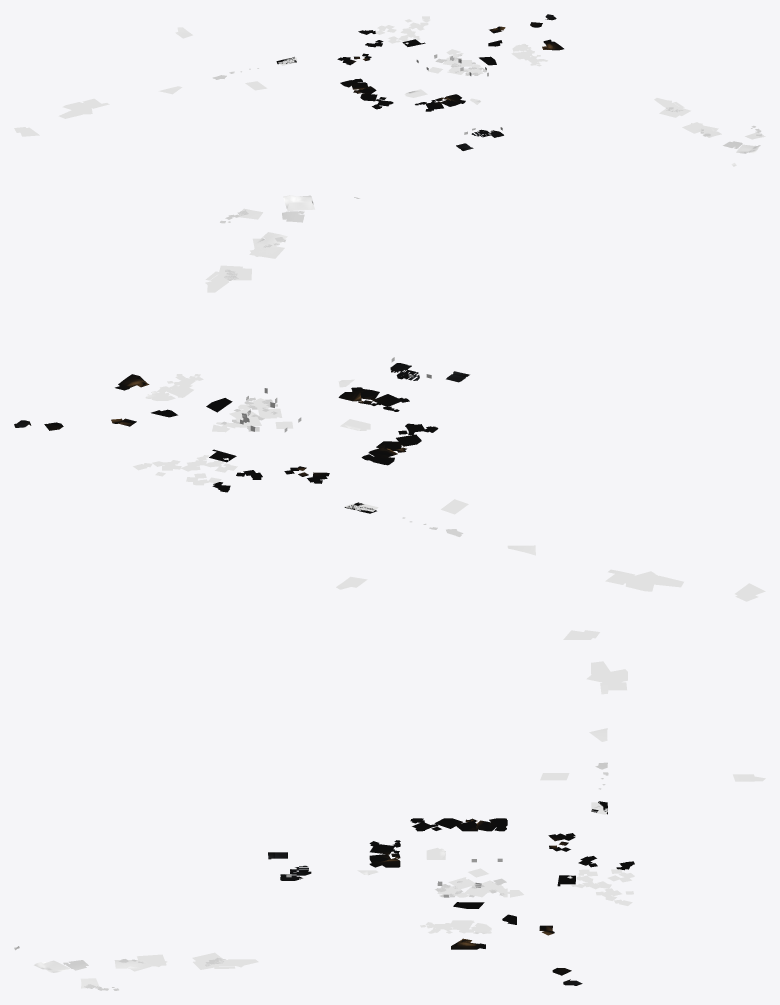
The model's file is Bar_Decals.fbx.
3 views of the same model, one above another, from view 1: azimuth 30°, elevation 25°; view 2: azimuth 150°, elevation 25°; view 3: azimuth 270°, elevation 25° (orthographic). The views are drawn at different scales.
Visible parts, largest first — view 1: sector_0_1_wm_graz1_1, sector_1_1_wm_cactus_place_2, sector_1_0_wm_graz3_8, sector_1_0_wm_graz1_3, sector_1_0_wm_cactus_place_1, sector_1_1_wm_cactus_place_1; view 2: sector_0_1_wm_graz1_1, sector_1_1_wm_cactus_place_2, sector_1_0_wm_graz1_3, sector_1_0_wm_graz3_8; view 3: sector_0_1_wm_graz1_1, sector_1_1_wm_cactus_place_2, sector_1_0_wm_graz3_8, sector_1_0_wm_graz1_3.
Part boxes in pixels (x1=…): sector_0_1_wm_graz1_1: x1=19, y1=27, x2=267, y2=136; sector_1_1_wm_cactus_place_2: x1=375, y1=16, x2=430, y2=44; sector_1_0_wm_graz3_8: x1=659, y1=100, x2=765, y2=139; sector_1_0_wm_graz1_3: x1=404, y1=89, x2=707, y2=133; sector_1_0_wm_cactus_place_1: x1=512, y1=43, x2=547, y2=66; sector_1_1_wm_cactus_place_1: x1=337, y1=30, x2=383, y2=65; sector_0_1_wm_graz1_1: x1=336, y1=499, x2=765, y2=598; sector_1_1_wm_cactus_place_2: x1=133, y1=455, x2=237, y2=485; sector_1_0_wm_graz1_3: x1=207, y1=243, x2=367, y2=430; sector_1_0_wm_graz3_8: x1=205, y1=208, x2=287, y2=289; sector_0_1_wm_graz1_1: x1=540, y1=630, x2=765, y2=781; sector_1_1_wm_cactus_place_2: x1=567, y1=869, x2=634, y2=905; sector_1_0_wm_graz3_8: x1=80, y1=958, x2=251, y2=988; sector_1_0_wm_graz1_3: x1=137, y1=848, x2=445, y2=966.
Size of the model in its own units: 32541 by 898 by 28669.
